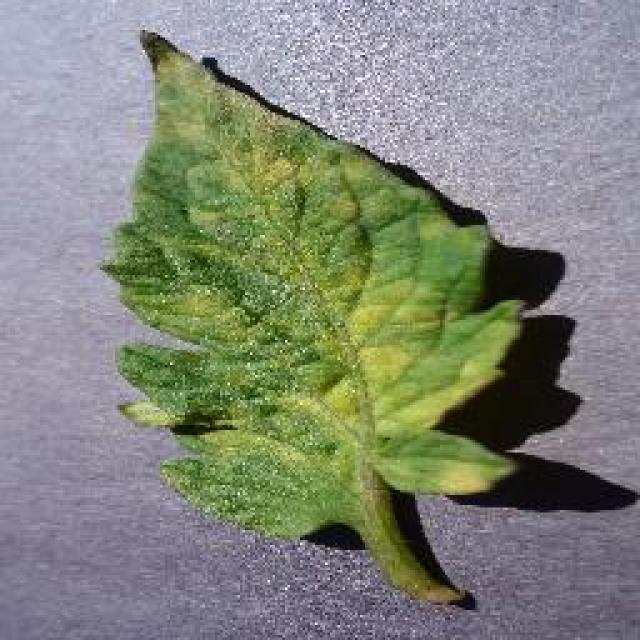Tomato___Leaf_Mold: (104, 30, 526, 604)
